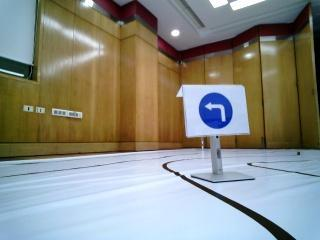left: (192, 88, 248, 135)
